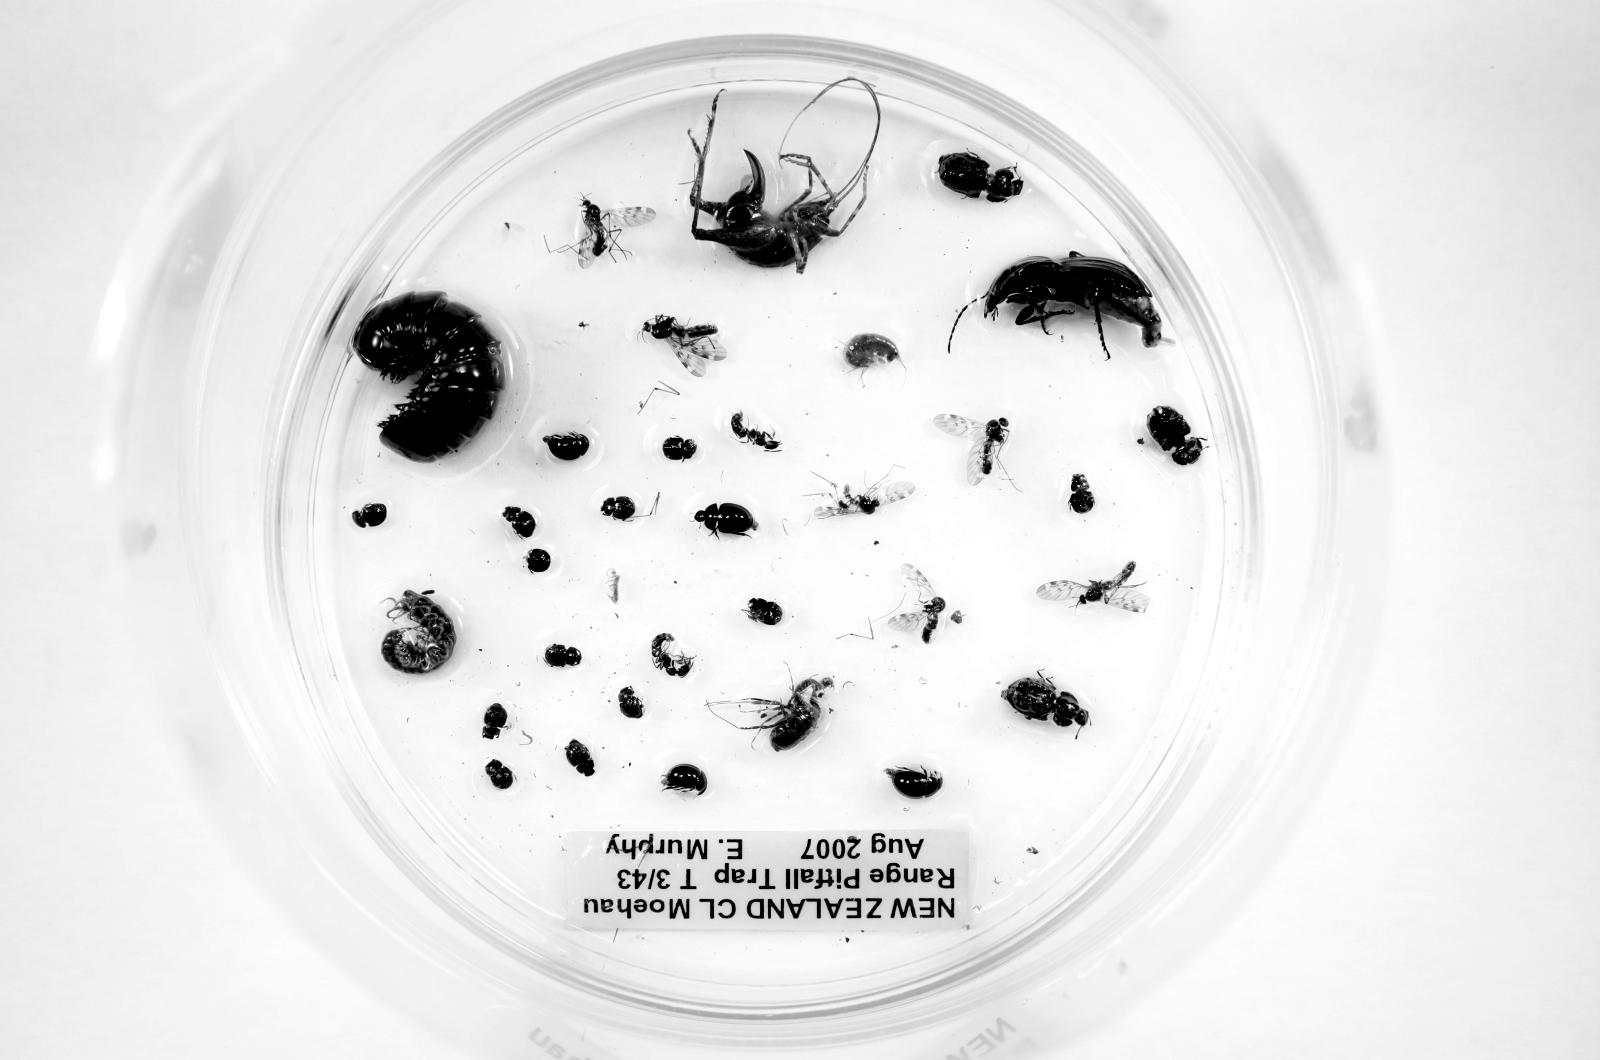amphipoda: (843, 334, 900, 370)
carabidae: (984, 251, 1165, 350)
coleoptera: (1002, 676, 1088, 726), (938, 153, 1023, 202), (1147, 406, 1204, 466), (694, 503, 757, 535), (885, 767, 942, 799), (662, 764, 706, 795), (543, 433, 590, 460), (564, 739, 595, 776), (744, 597, 783, 626), (503, 506, 536, 538), (1069, 473, 1095, 513), (661, 437, 698, 461), (482, 703, 507, 739), (545, 644, 582, 668), (351, 503, 387, 528), (601, 496, 636, 521), (485, 760, 514, 789), (617, 686, 644, 718)
collembola: (608, 569, 621, 603)
diplopoda: (382, 589, 456, 673)
diptera: (1036, 561, 1148, 613), (577, 196, 655, 267), (933, 414, 1010, 485), (642, 315, 726, 376), (889, 563, 946, 644), (814, 481, 914, 518)
formicidae: (731, 412, 780, 451), (650, 633, 693, 677)
isopoda: (354, 292, 504, 461)
opiliones: (707, 677, 833, 751)
orthoptera: (689, 77, 882, 273)
